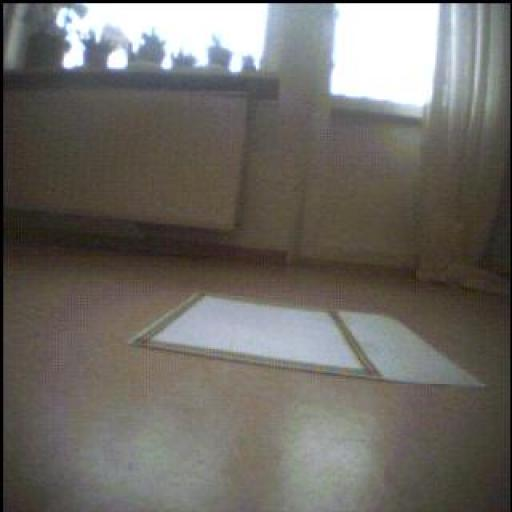Pad: (132, 296, 484, 389)
